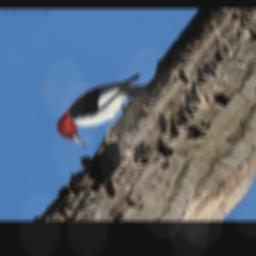Woodpecker: (45, 68, 161, 153)
